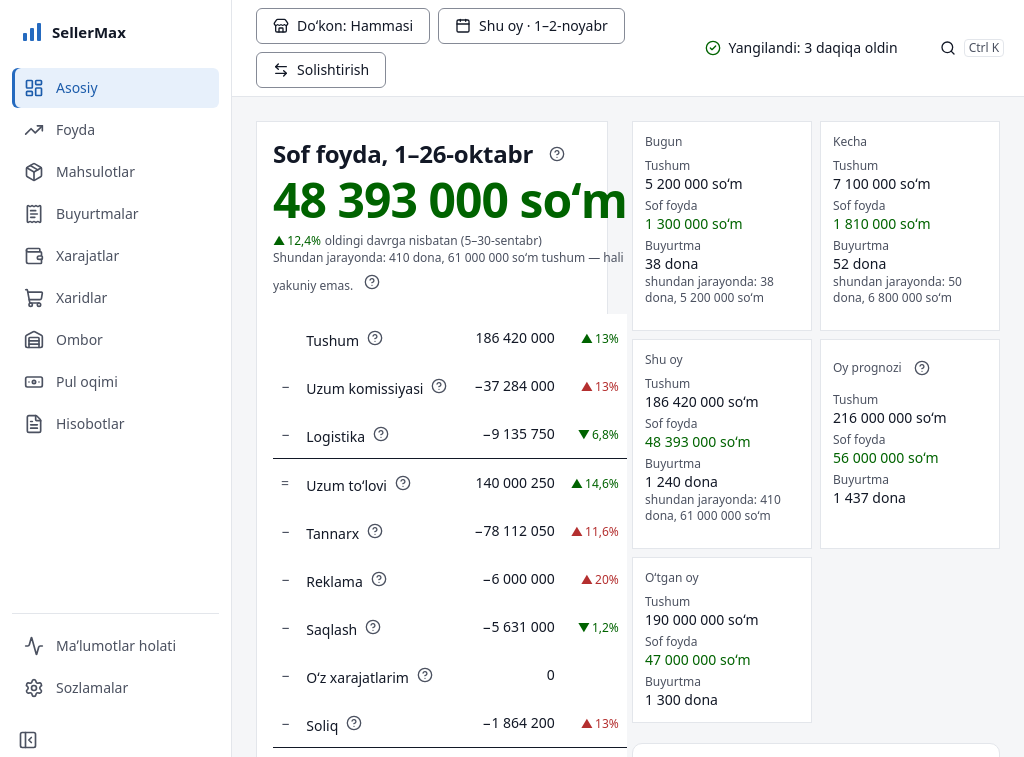
Test case: drill-down › Uzum toifasi: shu toifa xarajatlari (chiqim — minus), toifa so'rovda
The width and height of the screenshot is (1024, 757).
Expected: the text with test id "net-profit" is shown, 273,174 -> 627,226
Click the button "Reklama": (335,582) 306,572 -> 363,592
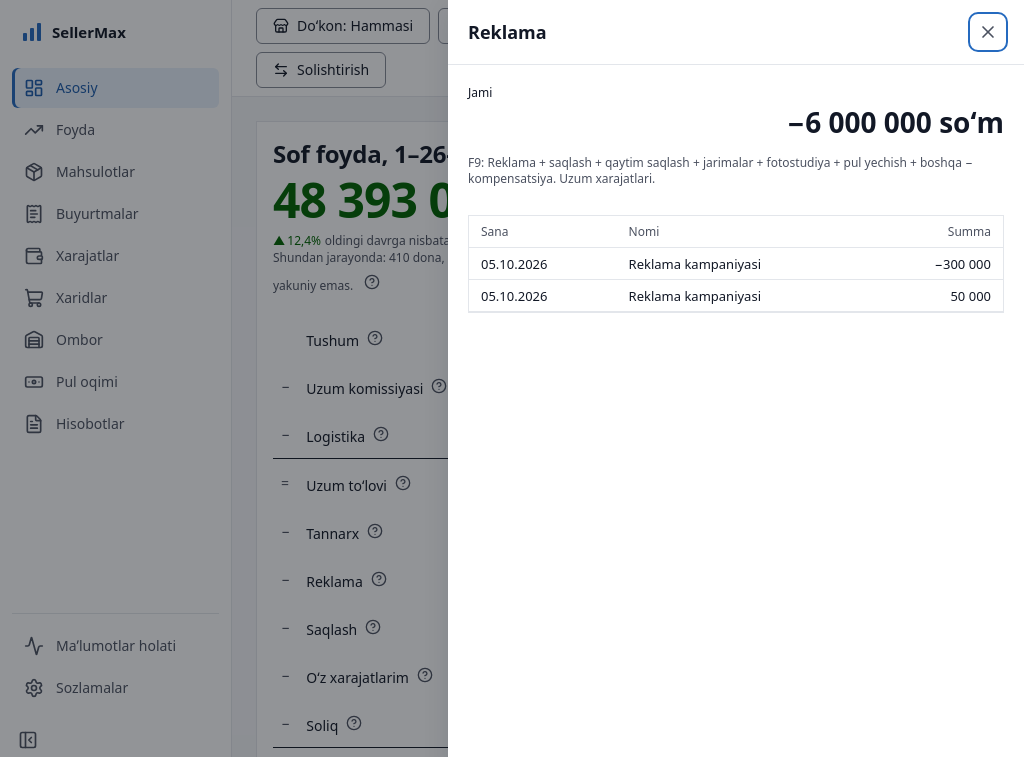
Result: the text "Reklama kampaniyasi" is shown 2 times at 617,248 -> 872,280; 617,280 -> 872,312
Result: the text "50 000" is shown at 872,280 -> 1003,312
